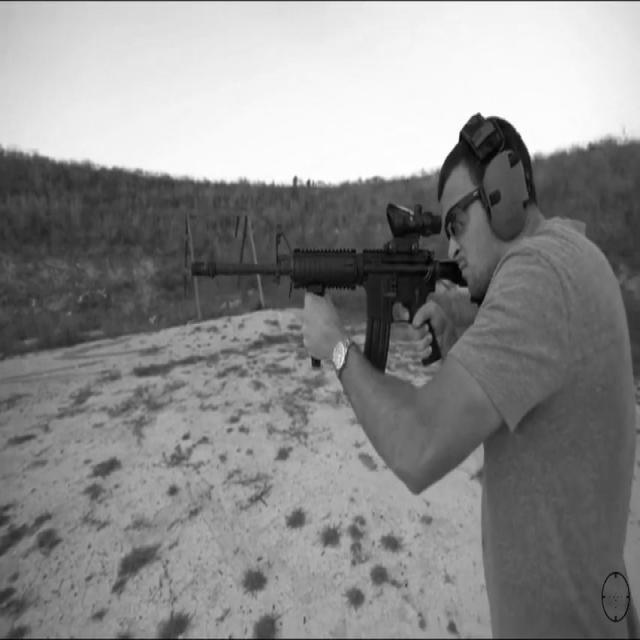Sniper: (132, 159, 566, 480)
